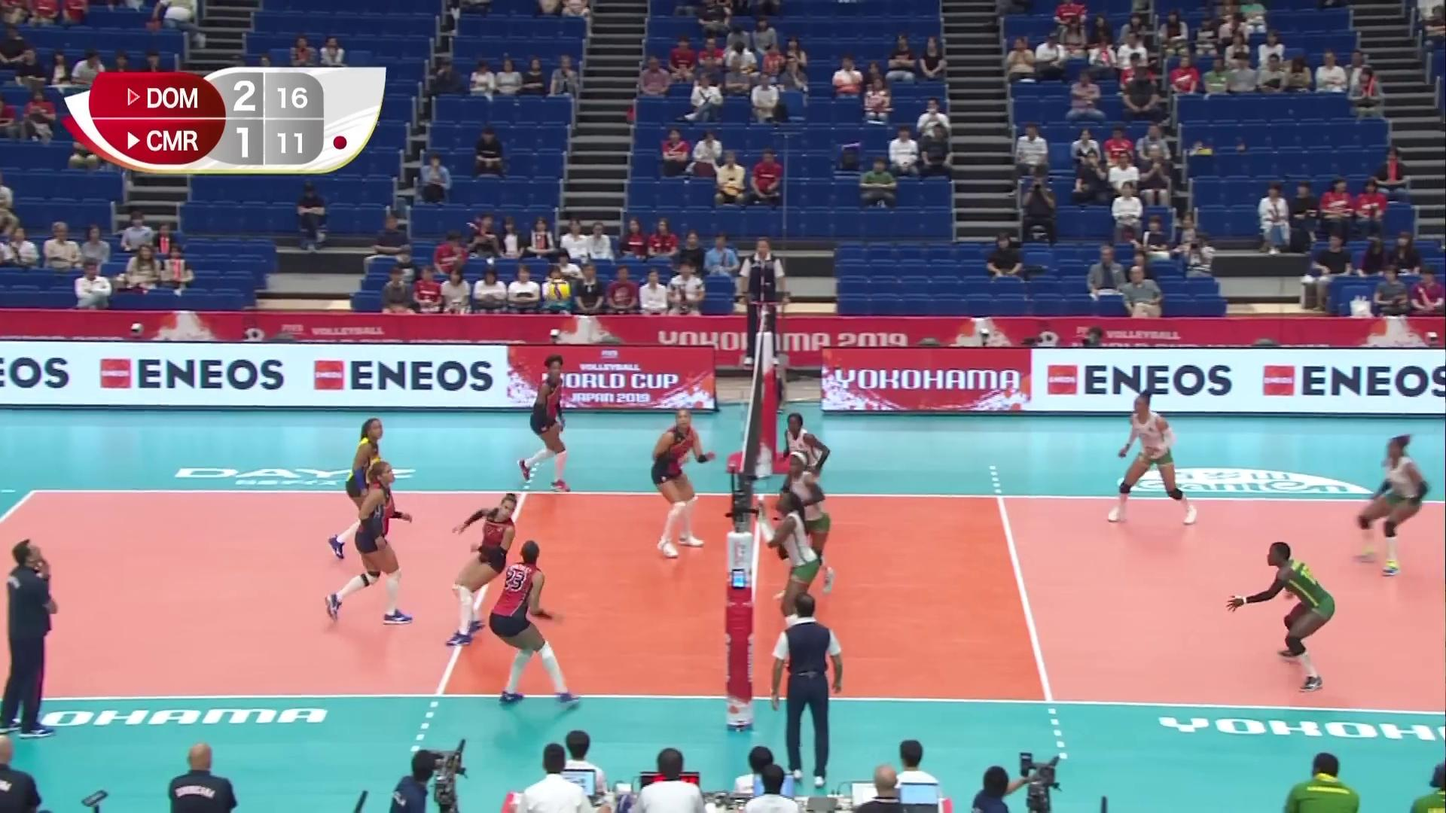player: (1225, 541, 1335, 694), (327, 461, 413, 627), (489, 542, 574, 707), (327, 416, 407, 560), (1108, 398, 1199, 523), (1360, 433, 1441, 572), (764, 491, 830, 650), (447, 494, 518, 640), (774, 450, 835, 606), (647, 409, 711, 556), (517, 361, 584, 492), (768, 414, 829, 541)
refree: (767, 601, 846, 768), (736, 233, 791, 368)
